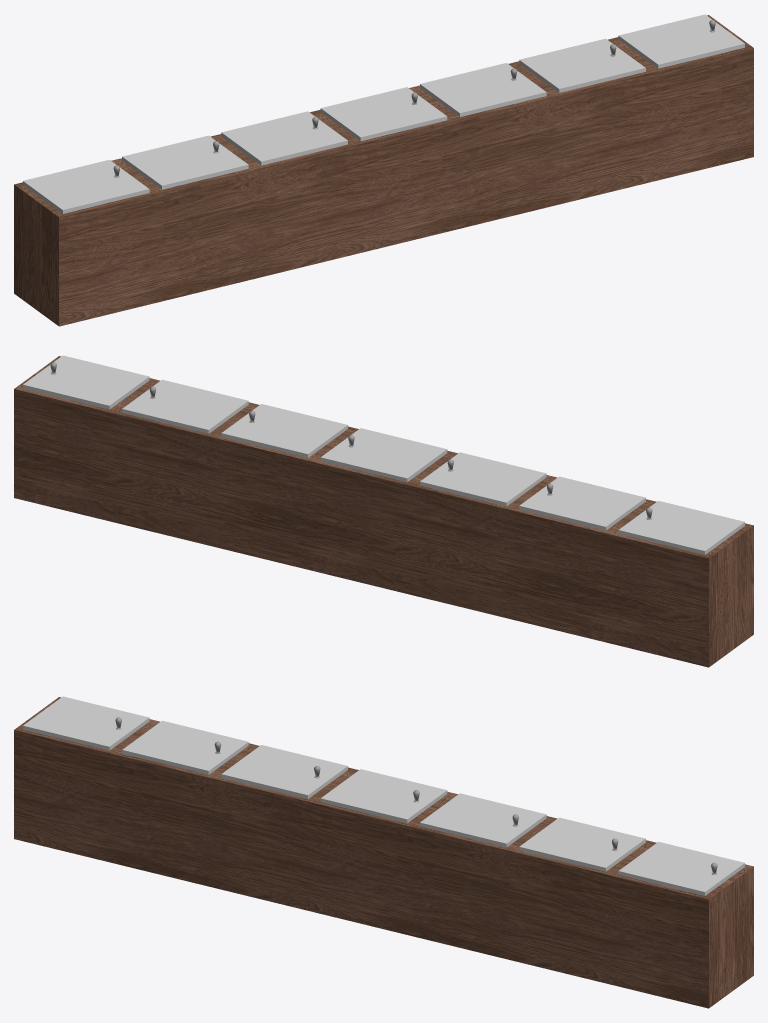
Rendered from TV_Shelf.fbx.
The picture shows the model from 3 angles, top to bottom: view 1: azimuth 30°, elevation 25°; view 2: azimuth 150°, elevation 25°; view 3: azimuth 330°, elevation 25°; orthographic projection.
Visible parts, largest first — view 1: Cube.005; view 2: Cube.005; view 3: Cube.005.
Boxes of the visible parts, x1=… form: Cube.005: x1=14, y1=14, x2=753, y2=326; Cube.005: x1=14, y1=355, x2=753, y2=667; Cube.005: x1=14, y1=696, x2=753, y2=1008.
Size of the model in its own units: 160 by 27.28 by 18.
2 materials, 1 textured.
